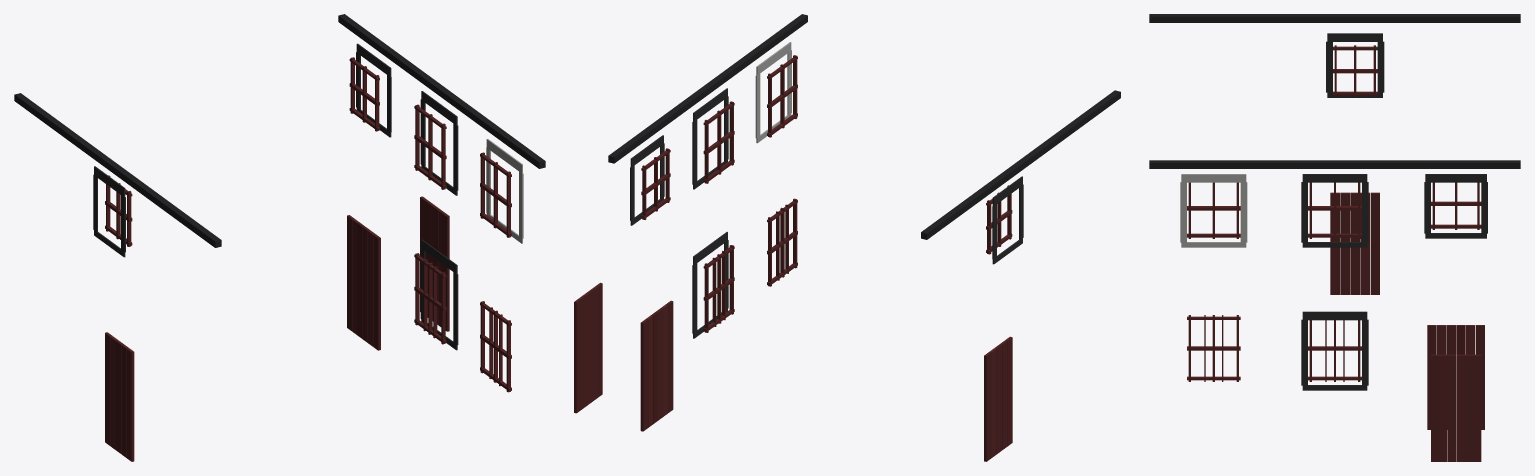
Rendered from SM_Bld_164_Wood.glb.
3 views of the same model, side by side, from view 1: azimuth 30°, elevation 25°; view 2: azimuth 150°, elevation 25°; view 3: azimuth 270°, elevation 25° (orthographic). The views are drawn at different scales.
Parts seen in each view (by area): view 1: SM_Bld_164_Wood; view 2: SM_Bld_164_Wood; view 3: SM_Bld_164_Wood.
Boxes of the visible parts, x1,y1,x2,y2 form: SM_Bld_164_Wood: [14, 14, 545, 461]; SM_Bld_164_Wood: [574, 14, 1120, 461]; SM_Bld_164_Wood: [1149, 14, 1520, 461].
Bounding box in the file's own units: 7.4 × 5.4 × 6.65.
